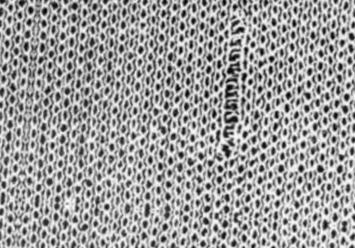slub: (218, 20, 247, 162)
